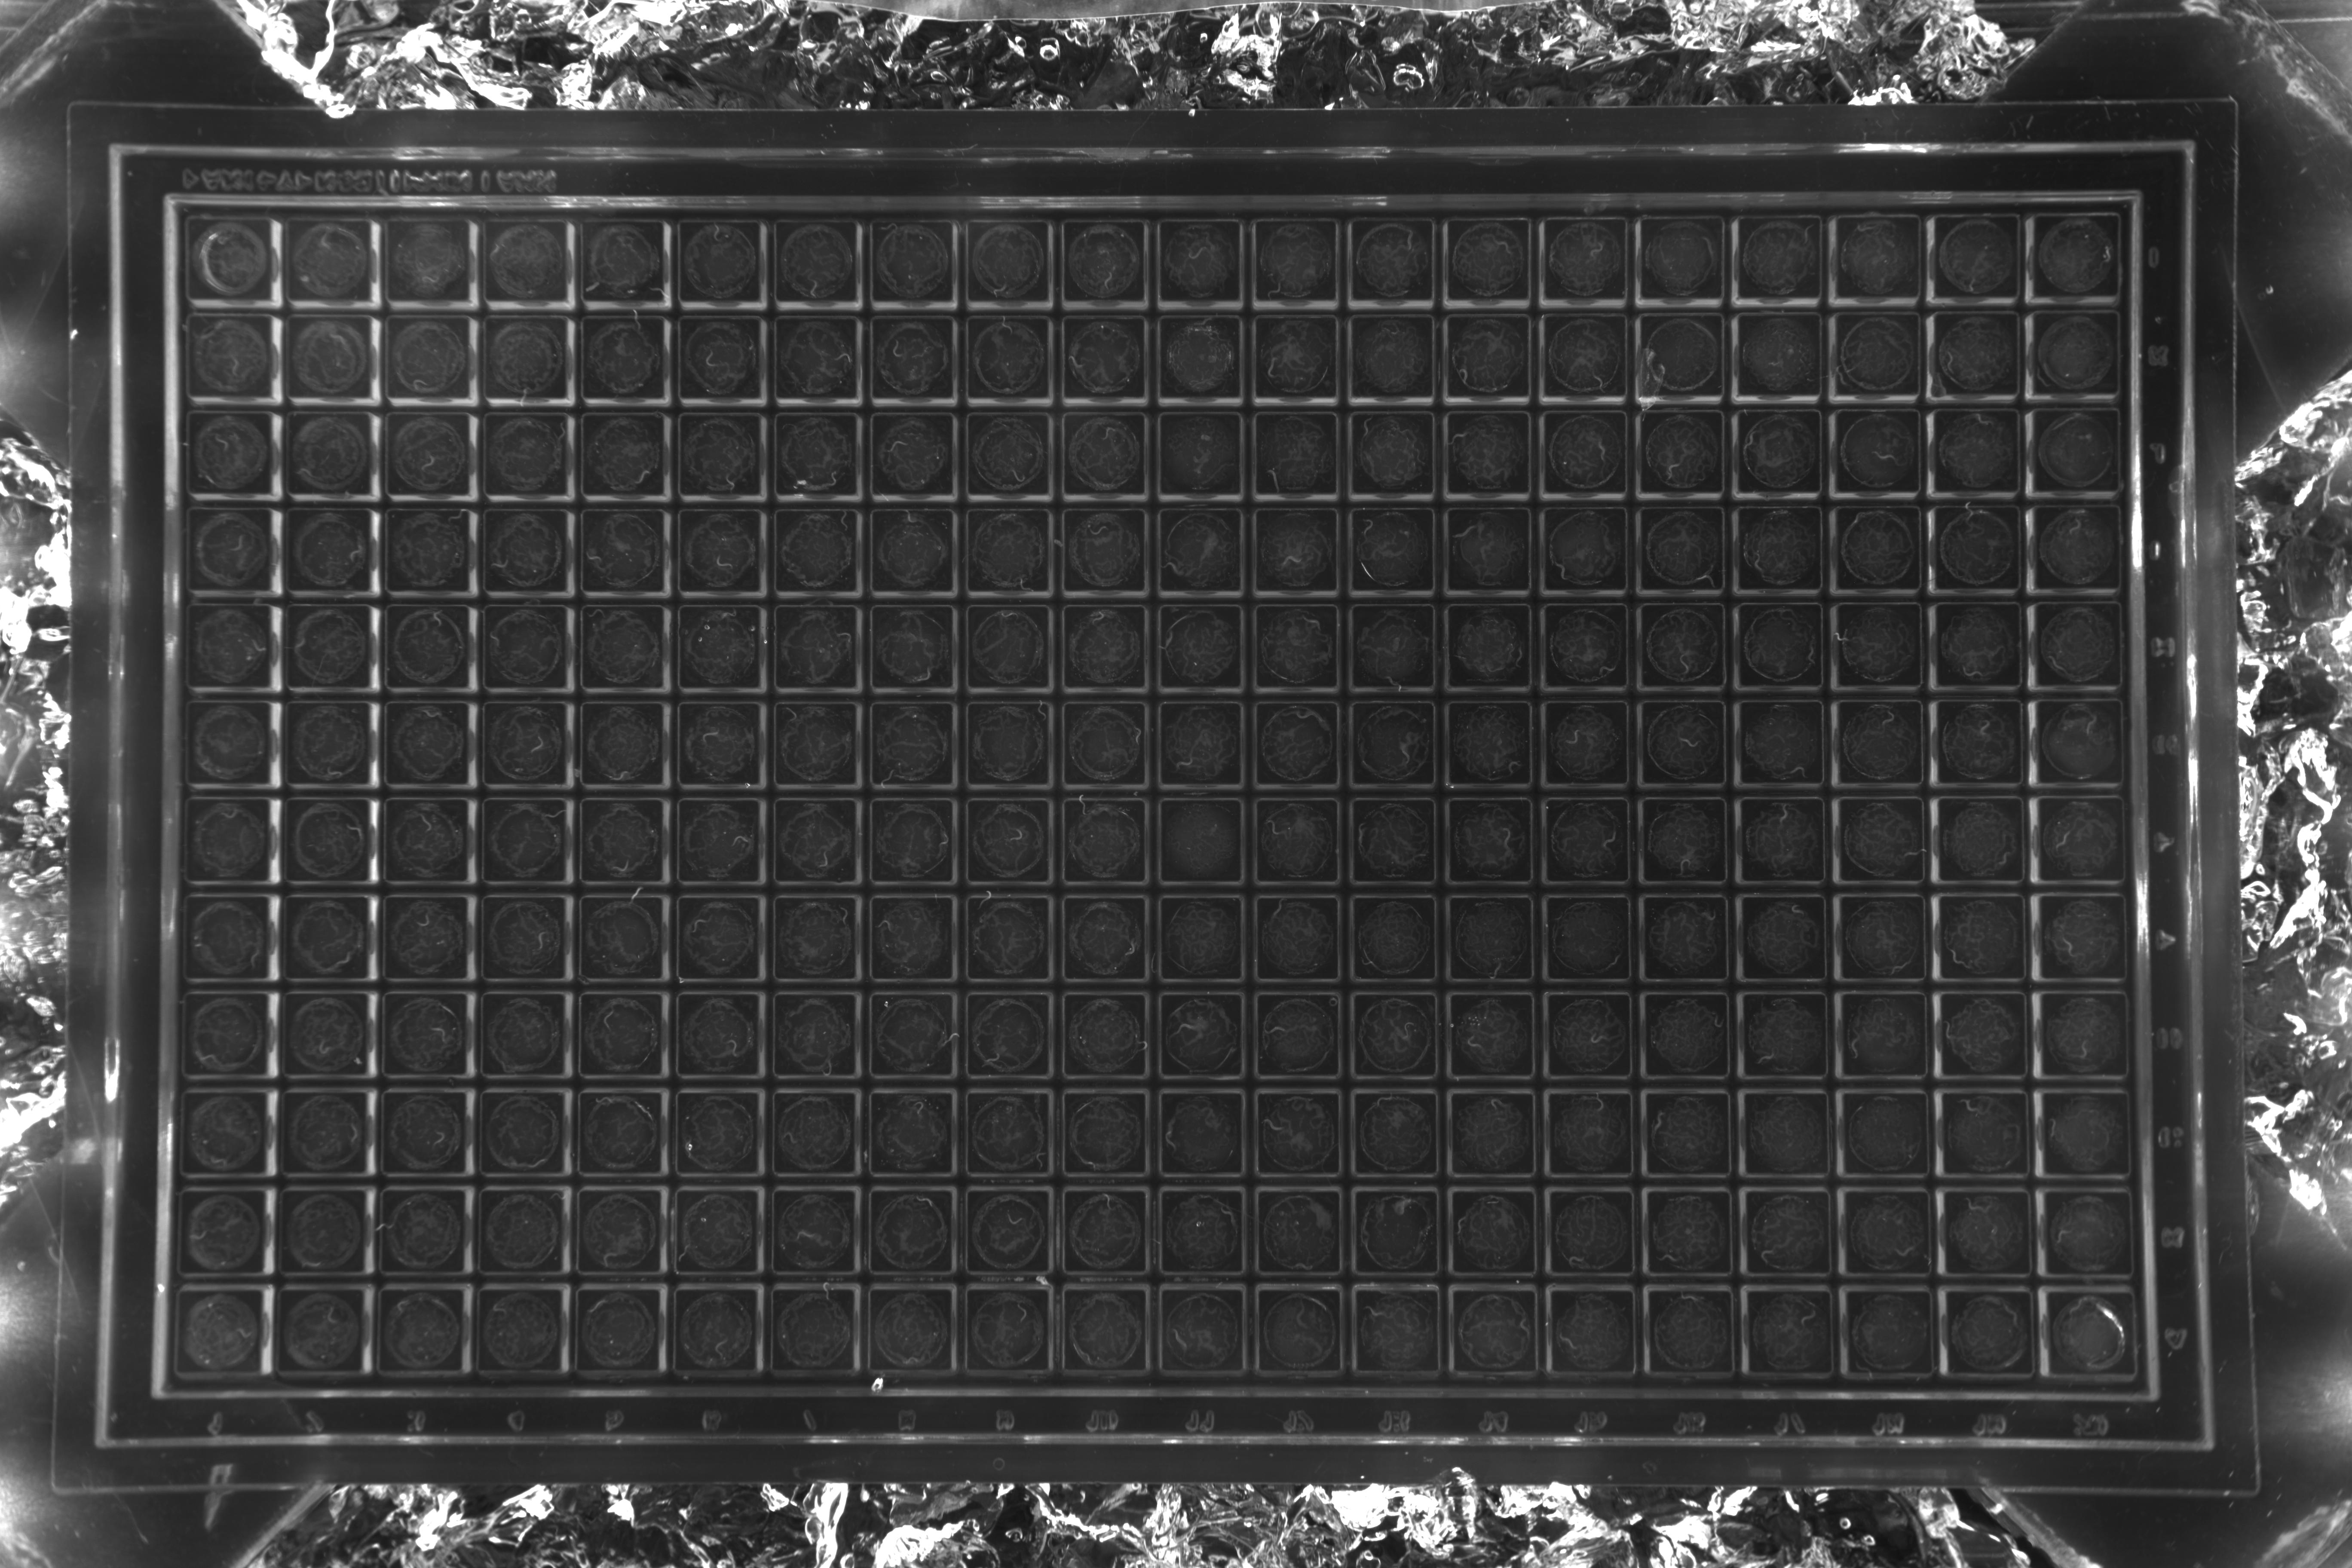WM_well: (395, 945, 485, 1032), (497, 362, 586, 450), (591, 945, 681, 1032), (1176, 850, 1265, 938), (296, 1043, 383, 1130), (390, 1242, 478, 1330), (392, 1143, 479, 1230), (401, 458, 488, 546), (884, 1045, 971, 1132), (980, 1239, 1067, 1326), (983, 269, 1071, 357), (1080, 656, 1167, 744), (1176, 367, 1263, 455), (1368, 269, 1456, 357), (1368, 367, 1456, 455), (1368, 464, 1456, 551), (1370, 754, 1458, 842), (1564, 850, 1652, 938), (1662, 852, 1750, 940), (1664, 1048, 1752, 1136), (1956, 462, 2044, 549), (1958, 658, 2046, 745), (2054, 366, 2142, 453), (2060, 856, 2147, 943)
